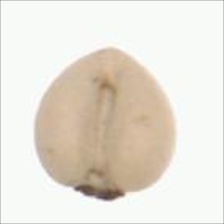L5: (87, 75, 121, 177), (68, 171, 128, 204), (93, 39, 129, 68)
L6: (31, 45, 183, 203)
